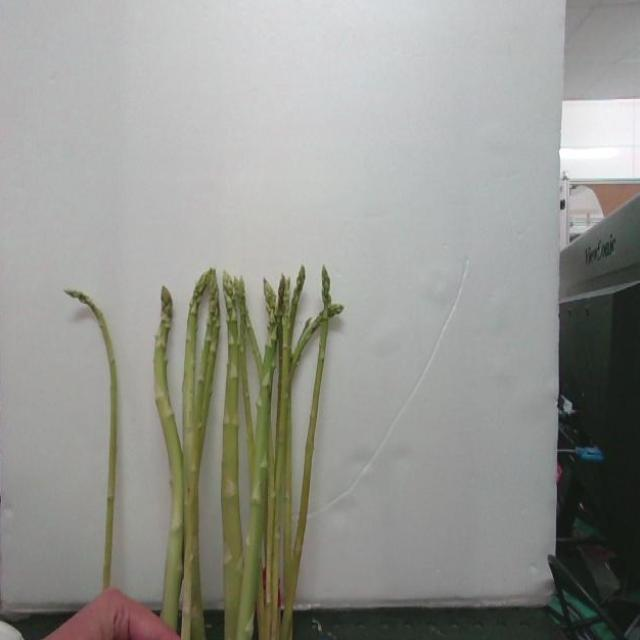aspargus: (63, 289, 122, 592)
